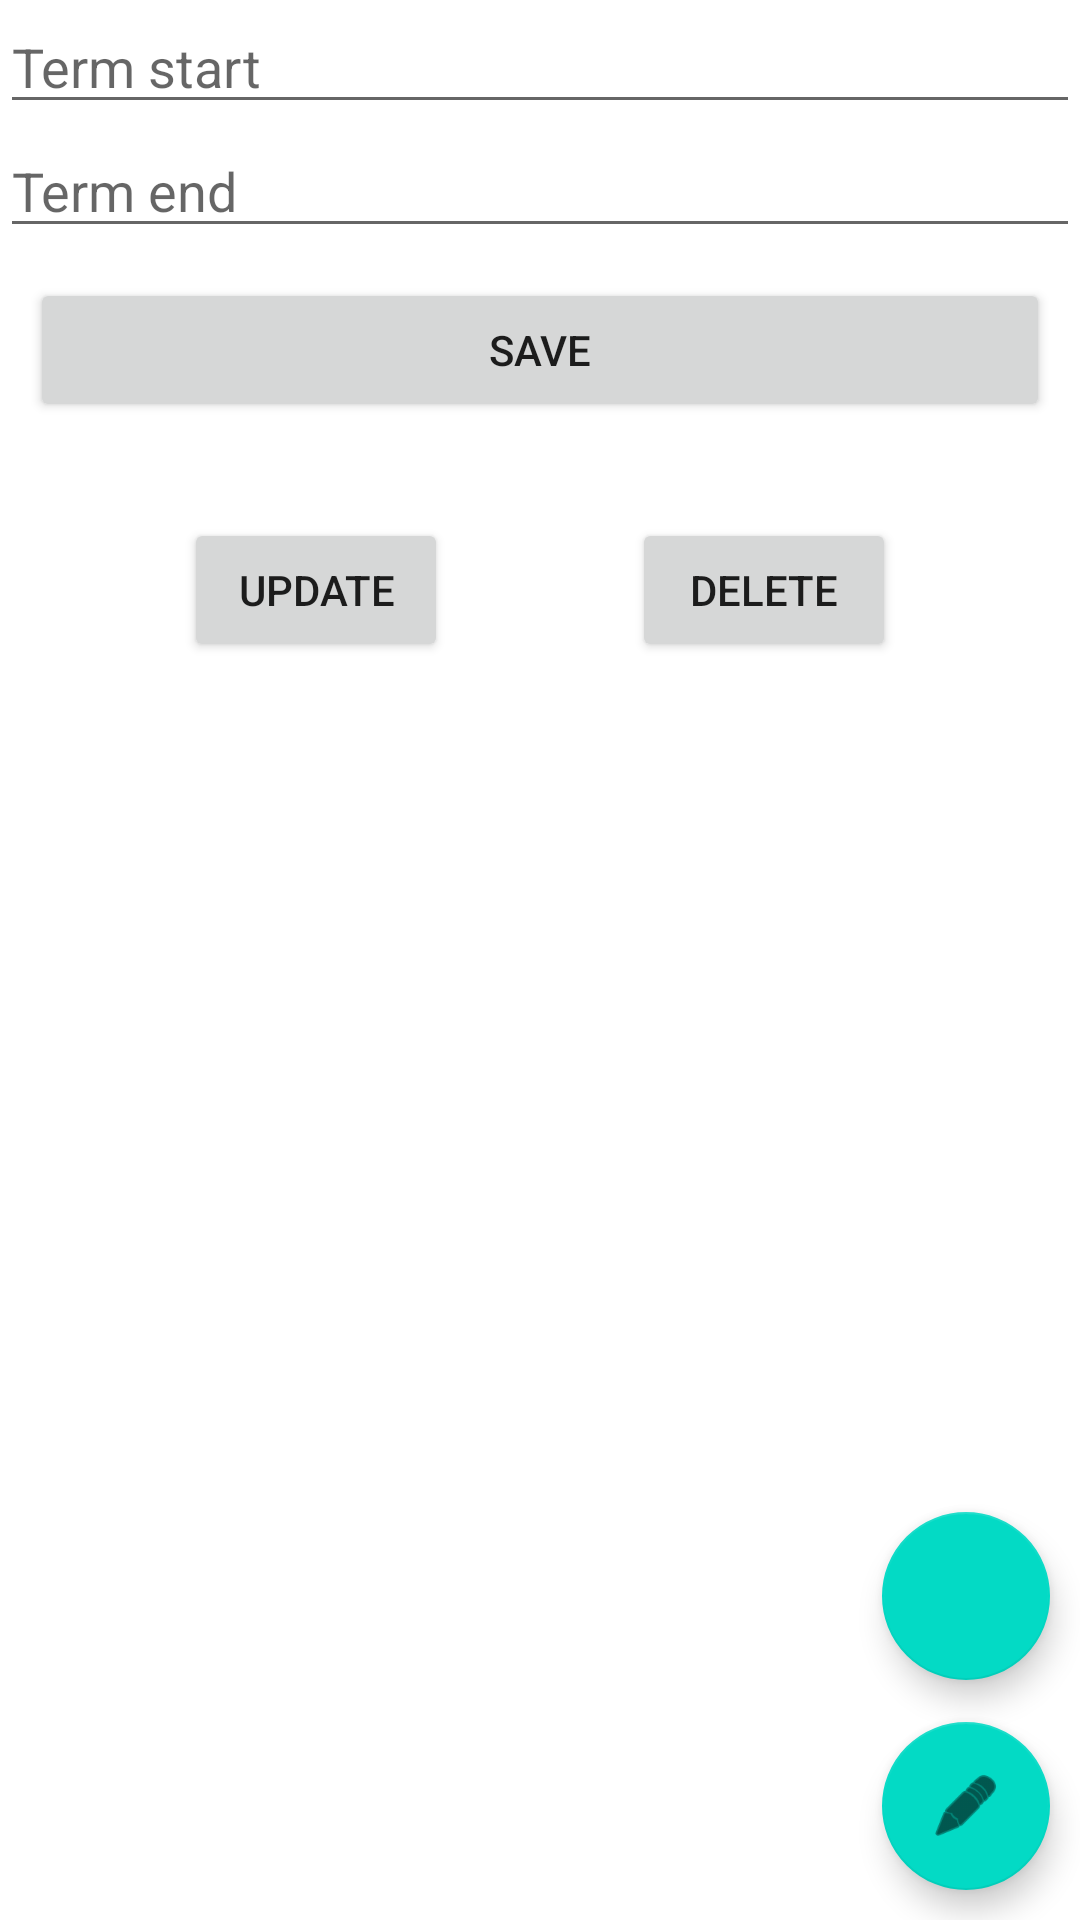

Named icons in this screenshot (1080×1920) and their centers, (x=x, y=y):
Edit: (x=966, y=1806)
